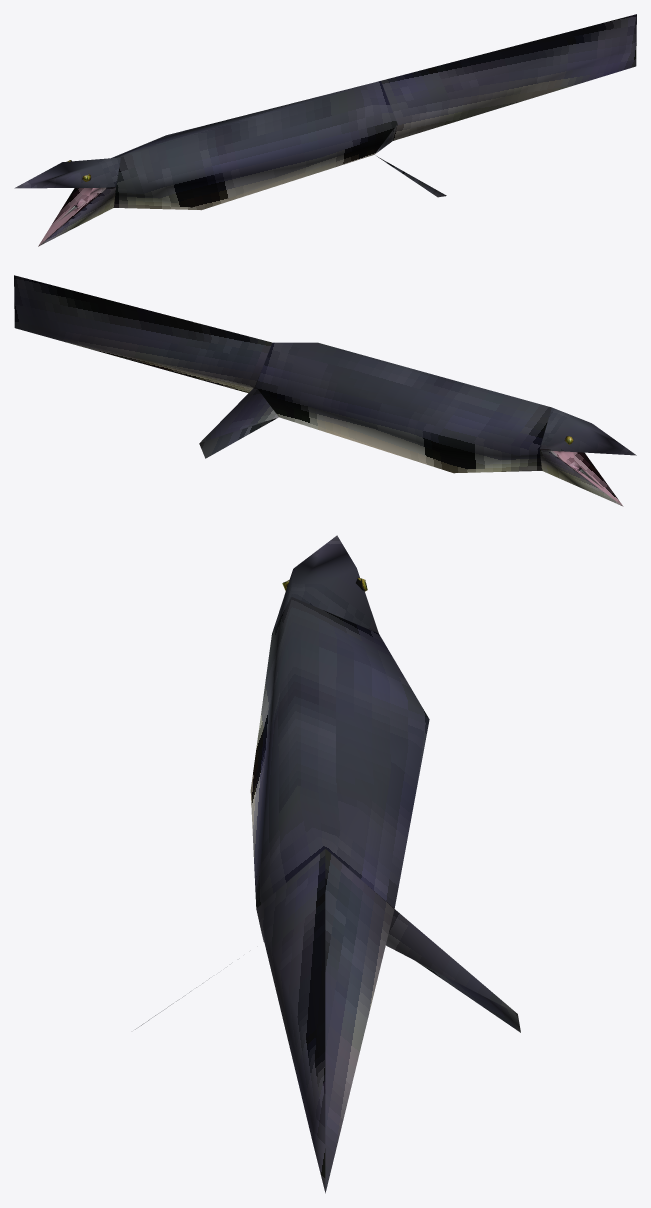
The model's file is mosasaurus.glb.
3 renders of one model, top to bottom at view 1: azimuth 30°, elevation 25°; view 2: azimuth 150°, elevation 25°; view 3: azimuth 270°, elevation 25°, orthographic. The views are drawn at different scales.
Parts seen in each view (by area): view 1: Animal; view 2: Animal; view 3: Animal.
Boxes of the visible parts, x1,y1,x2,y2 form: Animal: (14,14,636,246); Animal: (14,275,636,506); Animal: (135,535,520,1193).
Size of the model in its own units: 2.96 by 0.4057 by 0.8083.
2 materials, 2 textured.
